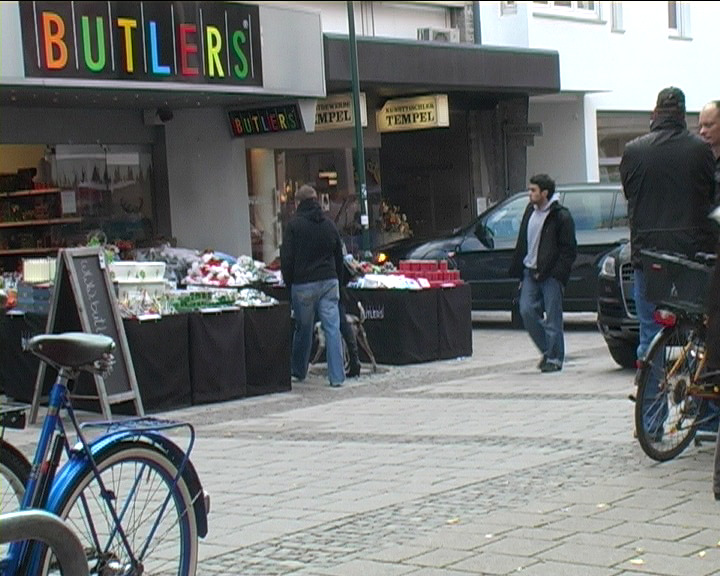undeflect: (518, 176, 569, 228)
